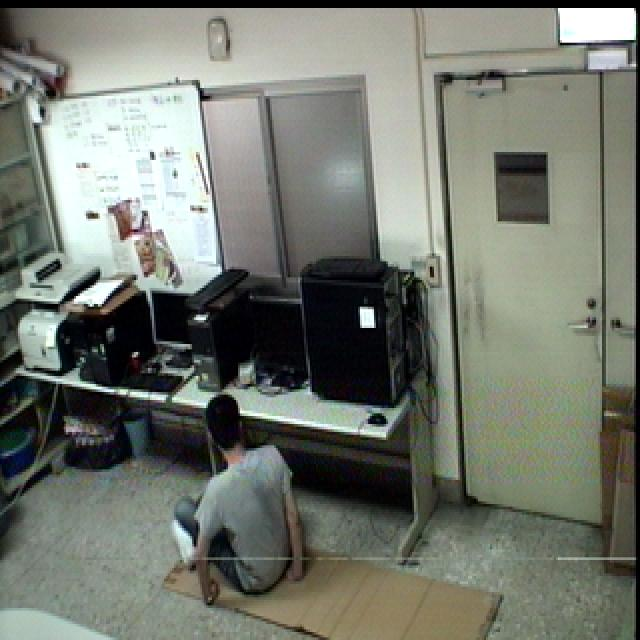sit: (167, 386, 310, 609)
